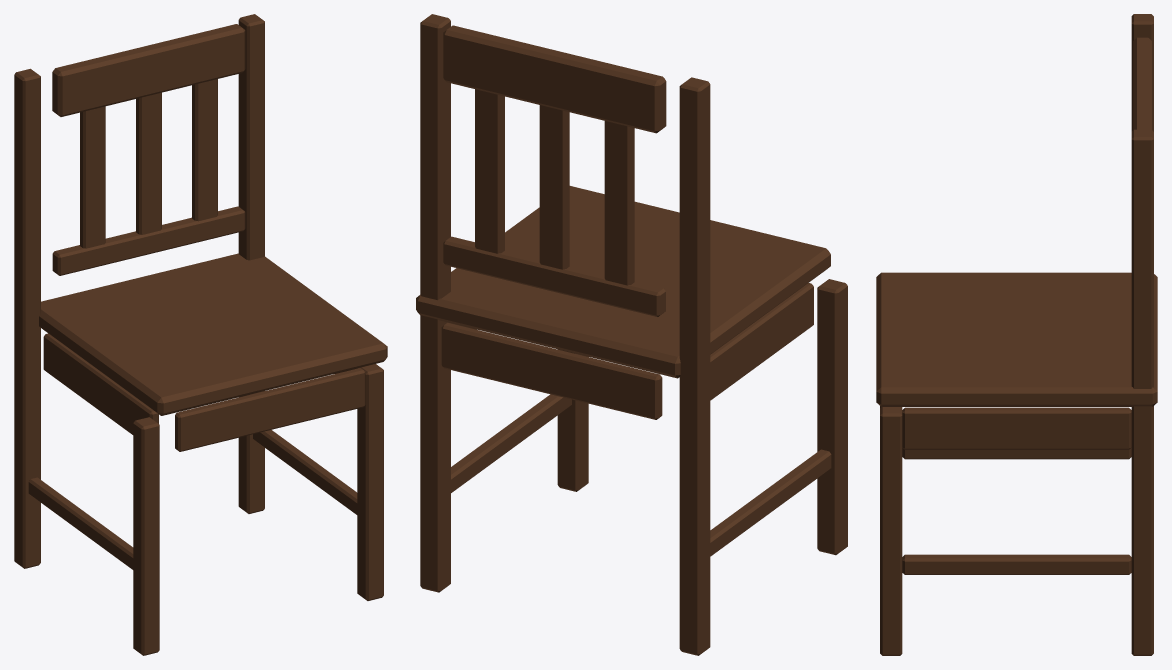
The model's file is Cadeira.fbx.
The picture shows the model from 3 angles, left to right: view 1: azimuth 30°, elevation 25°; view 2: azimuth 150°, elevation 25°; view 3: azimuth 270°, elevation 25°; orthographic projection. The views are drawn at different scales.
Parts seen in each view (by area): view 1: Cadeira; view 2: Cadeira; view 3: Cadeira.
Boxes of the visible parts, left/top/right/bottom form: Cadeira: left=14, top=14, right=387, bottom=655; Cadeira: left=416, top=14, right=847, bottom=655; Cadeira: left=876, top=14, right=1157, bottom=655.
Bounding box in the file's own units: 0.482 × 0.92 × 0.452.
